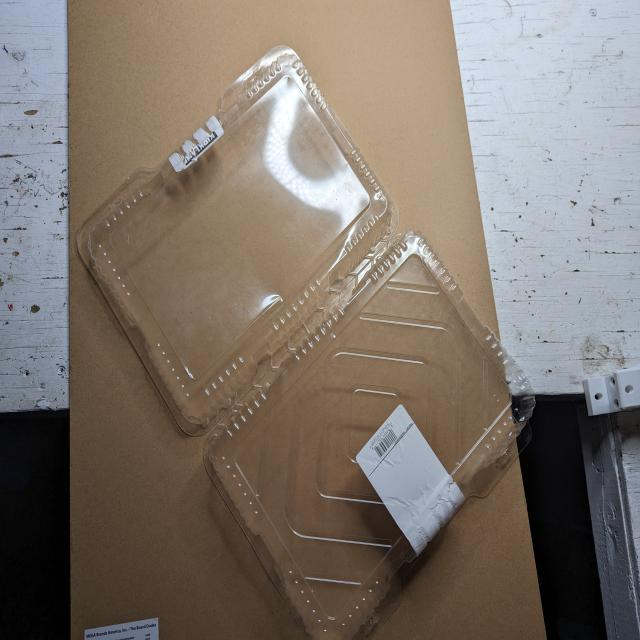Clamshell: (67, 38, 541, 640)
Label: (352, 402, 468, 557), (162, 106, 224, 179)
